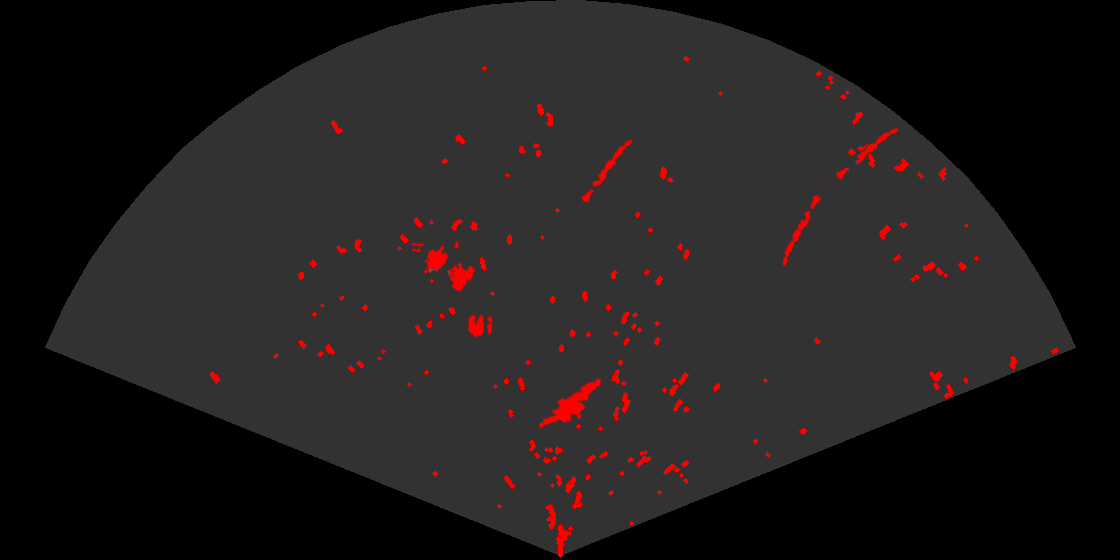ball: (467, 312, 494, 339)
cage: (412, 242, 477, 293)
chain: (826, 126, 900, 185), (577, 138, 634, 207), (781, 186, 825, 268)
frogman: (543, 377, 603, 428)
